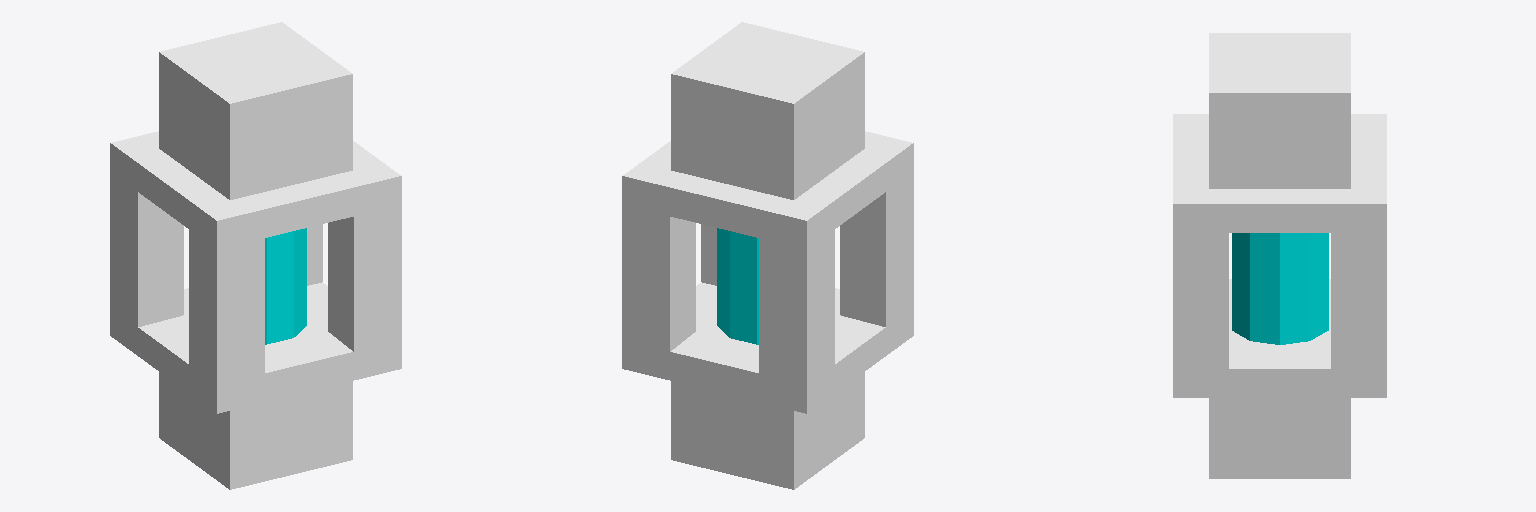
3 renders of one model, left to right at view 1: azimuth 30°, elevation 25°; view 2: azimuth 150°, elevation 25°; view 3: azimuth 270°, elevation 25°, orthographic.
Size of the model in its own units: 1 by 2 by 1.
2 materials, 1 textured.